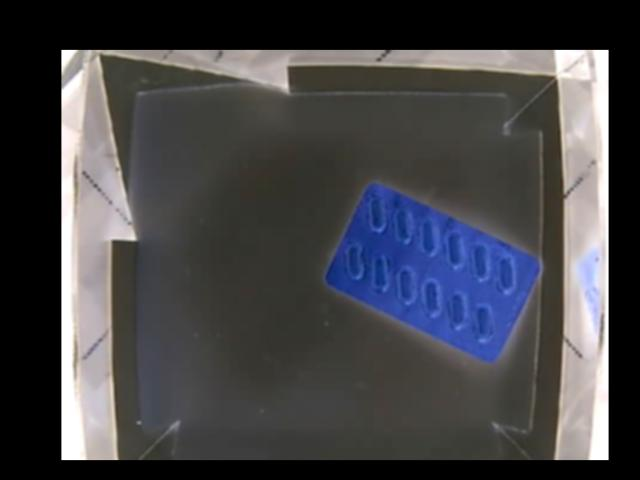Medicine: (327, 184, 543, 361)
